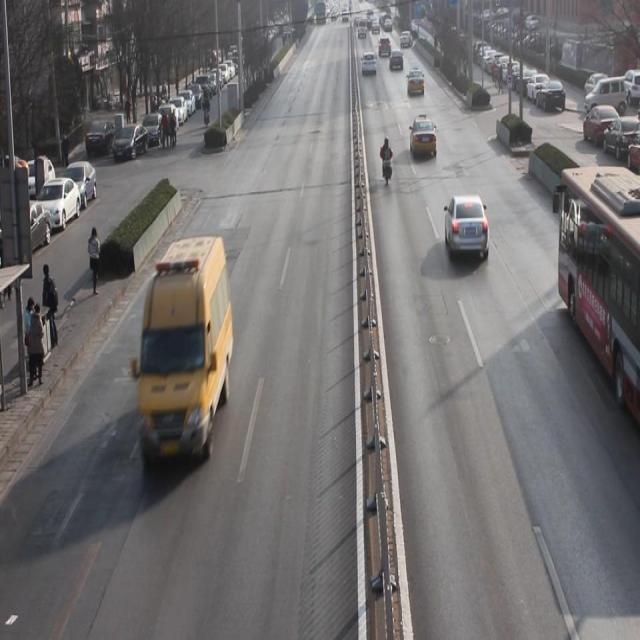car: (445, 189, 491, 270), (408, 113, 438, 163), (406, 64, 425, 100), (359, 50, 378, 82), (388, 49, 404, 75)
truck: (139, 237, 232, 476)
van: (555, 167, 640, 420)
